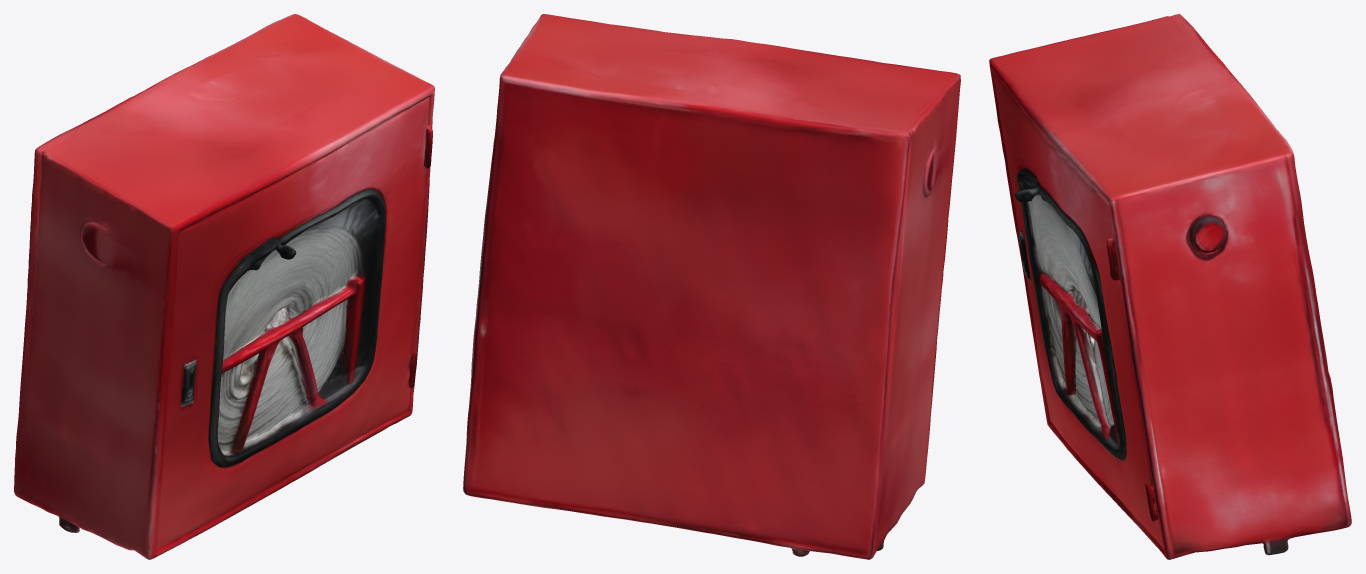
3 views of the same model, side by side, from view 1: azimuth 30°, elevation 25°; view 2: azimuth 150°, elevation 25°; view 3: azimuth 270°, elevation 25° (orthographic). The views are drawn at different scales.
Bounding box in the file's own units: 0.887 × 0.922 × 0.7294.
Materials: 1 (1 with a texture image).
